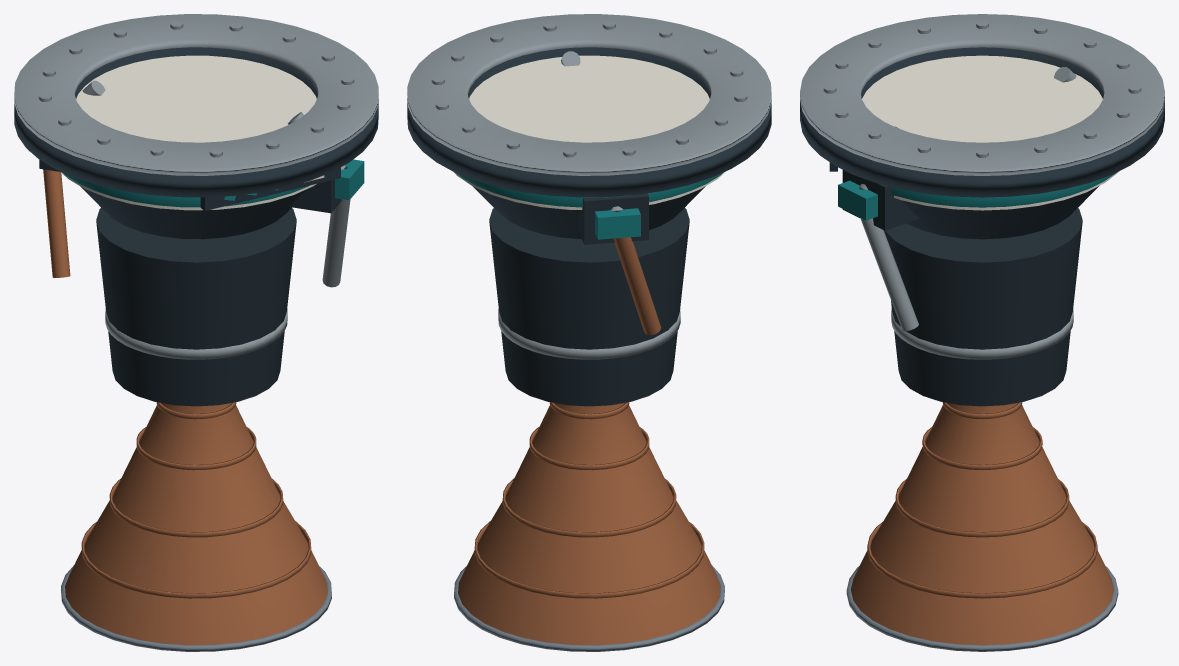
Rendered from k_35_iskra.glb.
3 views of the same model, side by side, from view 1: azimuth 30°, elevation 25°; view 2: azimuth 150°, elevation 25°; view 3: azimuth 270°, elevation 25° (orthographic).
Parts seen in each view (by area): view 1: k_35_iskra.gimbal_pitch.gimbal_yaw.nozzle.mesh_JUGRE_·_heat-, k_35_iskra.upper_hardware.mesh_JUGRE_·_bead-blasted_titanium, k_35_iskra.gimbal_pitch.gimbal_yaw.mesh_JUGRE_·_graphite_com, k_35_iskra.upper_hardware.mesh_JUGRE_·_bone_ceramic, k_35_iskra.upper_hardware.mesh_JUGRE_·_graphite_composite, k_35_iskra.gimbal_pitch.gimbal_yaw.nozzle.mesh_Machined_stee, k_35_iskra.gimbal_pitch.gimbal_yaw.mesh_JUGRE_·_bead-blasted, k_35_iskra.upper_hardware.mesh_JUGRE_·_heat-resistant_copper, k_35_iskra.upper_hardware.mesh_JUGRE_·_signal_teal, k_35_iskra.upper_hardware.pump_01.mesh_JUGRE_·_graphite_comp, k_35_iskra.upper_hardware.mark_0.mesh_JUGRE_·_graphite_compo, k_35_iskra.upper_hardware.pump_01.mesh_JUGRE_·_signal_teal; view 2: k_35_iskra.gimbal_pitch.gimbal_yaw.nozzle.mesh_JUGRE_·_heat-, k_35_iskra.upper_hardware.mesh_JUGRE_·_bead-blasted_titanium, k_35_iskra.gimbal_pitch.gimbal_yaw.mesh_JUGRE_·_graphite_com, k_35_iskra.upper_hardware.mesh_JUGRE_·_bone_ceramic, k_35_iskra.upper_hardware.mesh_JUGRE_·_graphite_composite, k_35_iskra.gimbal_pitch.gimbal_yaw.nozzle.mesh_Machined_stee, k_35_iskra.gimbal_pitch.gimbal_yaw.mesh_JUGRE_·_bead-blasted, k_35_iskra.upper_hardware.pump_02.mesh_JUGRE_·_graphite_comp, k_35_iskra.upper_hardware.mesh_JUGRE_·_heat-resistant_copper, k_35_iskra.upper_hardware.mesh_JUGRE_·_signal_teal, k_35_iskra.upper_hardware.pump_02.mesh_JUGRE_·_signal_teal; view 3: k_35_iskra.gimbal_pitch.gimbal_yaw.nozzle.mesh_JUGRE_·_heat-, k_35_iskra.upper_hardware.mesh_JUGRE_·_bead-blasted_titanium, k_35_iskra.gimbal_pitch.gimbal_yaw.mesh_JUGRE_·_graphite_com, k_35_iskra.upper_hardware.mesh_JUGRE_·_bone_ceramic, k_35_iskra.upper_hardware.mesh_JUGRE_·_graphite_composite, k_35_iskra.gimbal_pitch.gimbal_yaw.nozzle.mesh_Machined_stee, k_35_iskra.gimbal_pitch.gimbal_yaw.mesh_JUGRE_·_bead-blasted, k_35_iskra.upper_hardware.mesh_JUGRE_·_signal_teal, k_35_iskra.upper_hardware.pump_01.mesh_JUGRE_·_graphite_comp, k_35_iskra.upper_hardware.pump_01.mesh_JUGRE_·_signal_teal.
Part boxes in pixels (x1,y1,x2,y2): k_35_iskra.gimbal_pitch.gimbal_yaw.nozzle.mesh_JUGRE_·_heat-: (65,402,327,645); k_35_iskra.upper_hardware.mesh_JUGRE_·_bead-blasted_titanium: (14,14,378,287); k_35_iskra.gimbal_pitch.gimbal_yaw.mesh_JUGRE_·_graphite_com: (96,208,296,406); k_35_iskra.upper_hardware.mesh_JUGRE_·_bone_ceramic: (60,55,316,210); k_35_iskra.upper_hardware.mesh_JUGRE_·_graphite_composite: (14,47,378,239); k_35_iskra.gimbal_pitch.gimbal_yaw.nozzle.mesh_Machined_stee: (61,565,331,651); k_35_iskra.gimbal_pitch.gimbal_yaw.mesh_JUGRE_·_bead-blasted: (105,309,287,359); k_35_iskra.upper_hardware.mesh_JUGRE_·_heat-resistant_copper: (43,169,70,277); k_35_iskra.upper_hardware.mesh_JUGRE_·_signal_teal: (62,172,309,207); k_35_iskra.upper_hardware.pump_01.mesh_JUGRE_·_graphite_comp: (289,179,341,213); k_35_iskra.upper_hardware.mark_0.mesh_JUGRE_·_graphite_compo: (200,167,340,210); k_35_iskra.upper_hardware.pump_01.mesh_JUGRE_·_signal_teal: (335,159,364,200); k_35_iskra.gimbal_pitch.gimbal_yaw.nozzle.mesh_JUGRE_·_heat-: (458,402,720,645); k_35_iskra.upper_hardware.mesh_JUGRE_·_bead-blasted_titanium: (407,14,771,211); k_35_iskra.gimbal_pitch.gimbal_yaw.mesh_JUGRE_·_graphite_com: (489,208,689,406); k_35_iskra.upper_hardware.mesh_JUGRE_·_bone_ceramic: (454,55,725,209); k_35_iskra.upper_hardware.mesh_JUGRE_·_graphite_composite: (407,47,771,238); k_35_iskra.gimbal_pitch.gimbal_yaw.nozzle.mesh_Machined_stee: (454,565,724,651); k_35_iskra.gimbal_pitch.gimbal_yaw.mesh_JUGRE_·_bead-blasted: (498,309,680,359); k_35_iskra.upper_hardware.pump_02.mesh_JUGRE_·_graphite_comp: (576,193,648,244); k_35_iskra.upper_hardware.mesh_JUGRE_·_heat-resistant_copper: (614,237,661,335); k_35_iskra.upper_hardware.mesh_JUGRE_·_signal_teal: (456,172,723,207); k_35_iskra.upper_hardware.pump_02.mesh_JUGRE_·_signal_teal: (595,208,640,239); k_35_iskra.gimbal_pitch.gimbal_yaw.nozzle.mesh_JUGRE_·_heat-: (850,402,1114,645); k_35_iskra.upper_hardware.mesh_JUGRE_·_bead-blasted_titanium: (800,14,1164,331); k_35_iskra.gimbal_pitch.gimbal_yaw.mesh_JUGRE_·_graphite_com: (884,208,1082,406); k_35_iskra.upper_hardware.mesh_JUGRE_·_bone_ceramic: (862,55,1119,210); k_35_iskra.upper_hardware.mesh_JUGRE_·_graphite_composite: (800,47,1164,239); k_35_iskra.gimbal_pitch.gimbal_yaw.nozzle.mesh_Machined_stee: (846,566,1118,651); k_35_iskra.gimbal_pitch.gimbal_yaw.mesh_JUGRE_·_bead-blasted: (891,309,1073,359); k_35_iskra.upper_hardware.mesh_JUGRE_·_signal_teal: (891,172,1116,207); k_35_iskra.upper_hardware.pump_01.mesh_JUGRE_·_graphite_comp: (842,170,919,230); k_35_iskra.upper_hardware.pump_01.mesh_JUGRE_·_signal_teal: (838,180,877,220).
Bounding box in the file's own units: 0.68 × 1.04 × 0.68.
